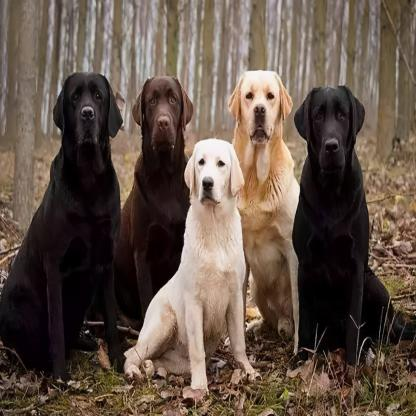dog: (2, 71, 121, 366), (124, 139, 259, 395), (291, 89, 416, 356), (230, 73, 306, 361), (121, 76, 193, 323)
